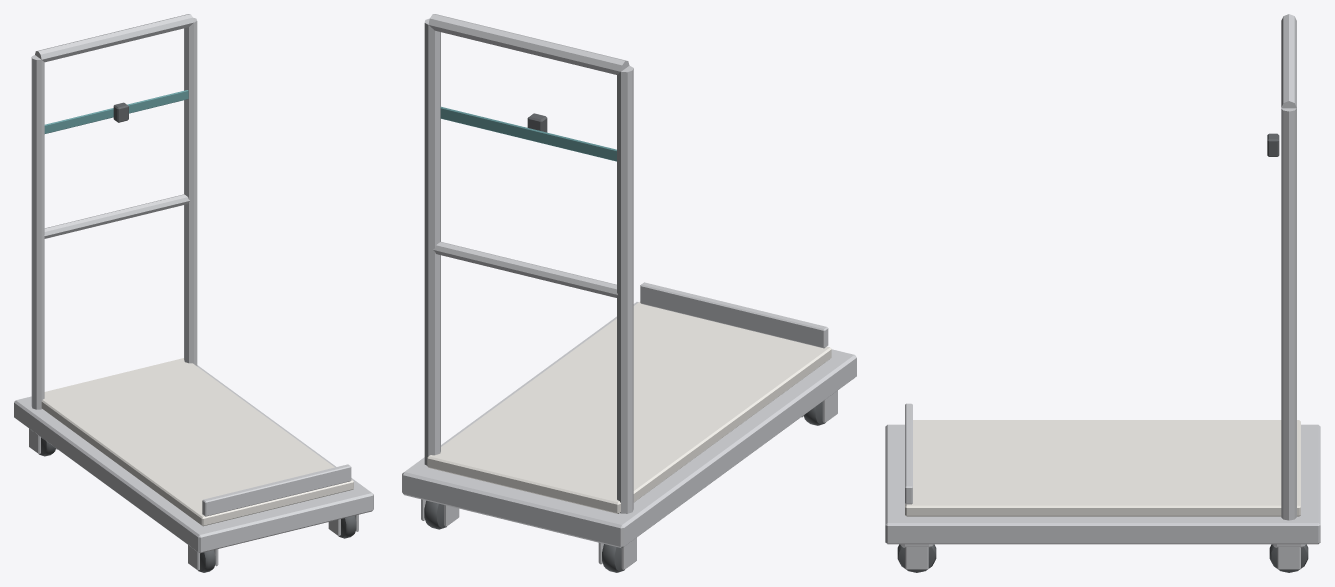
Rendered from hotel-and-resort-operations-chair-trolley-4bbfc7ca__25911.glb.
3 renders of one model, left to right at view 1: azimuth 30°, elevation 25°; view 2: azimuth 150°, elevation 25°; view 3: azimuth 270°, elevation 25°, orthographic. The views are drawn at different scales.
Visible parts, largest first — view 1: chair-trolley; view 2: chair-trolley; view 3: chair-trolley, castor-rb, castor-rf.
Boxes of the visible parts, <box> form: chair-trolley: <box>14,14,373,553</box>; chair-trolley: <box>402,14,856,548</box>; chair-trolley: <box>885,14,1320,544</box>; castor-rb: <box>1272,544,1305,569</box>; castor-rf: <box>900,544,933,569</box>.
Size of the model in its own units: 0.5999 by 1.32 by 1.1.
